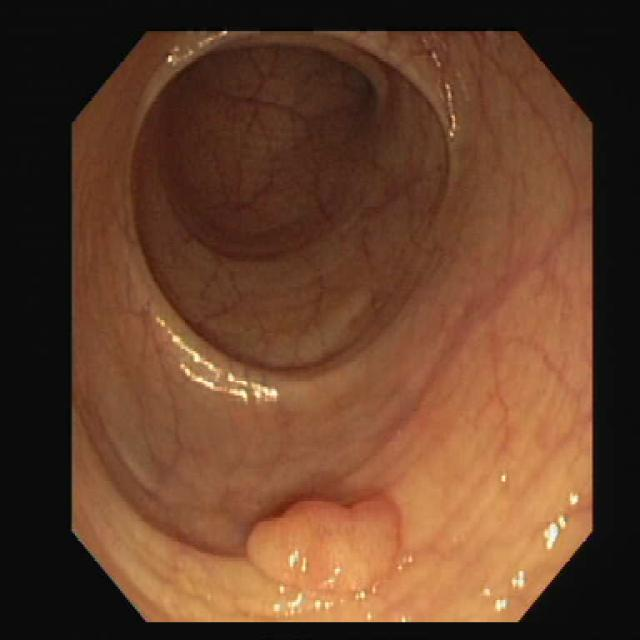tumor: (247, 496, 400, 593)
